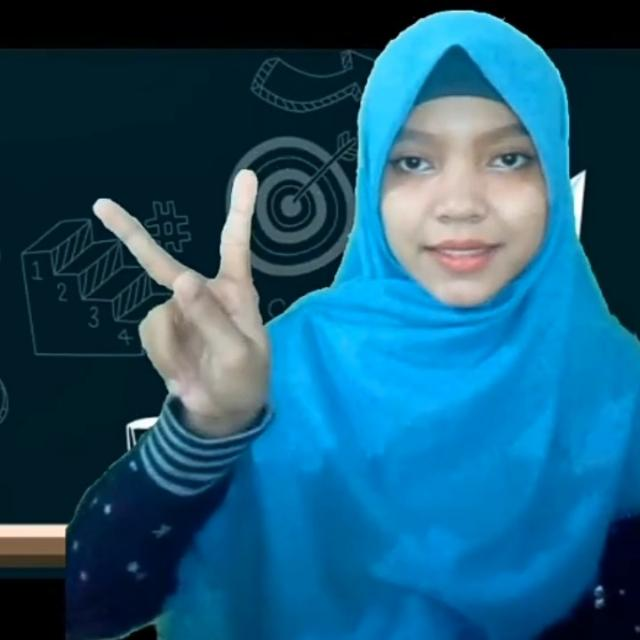K: (90, 168, 272, 410)
